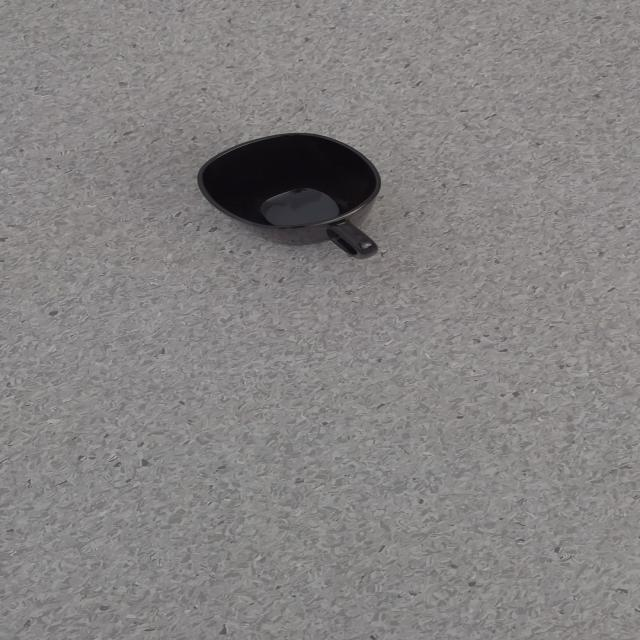mug: (196, 131, 382, 260)
